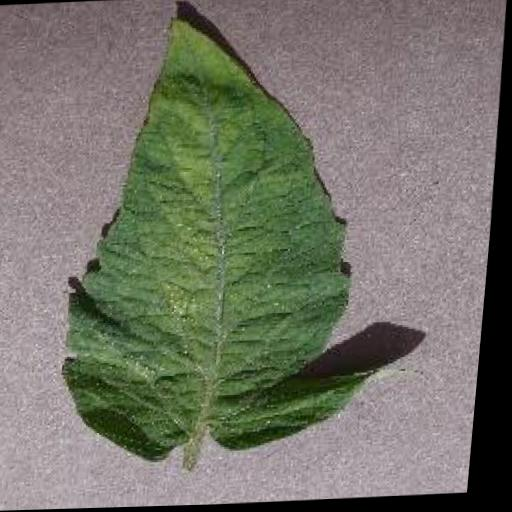Spider Mites: (55, 8, 407, 464)
